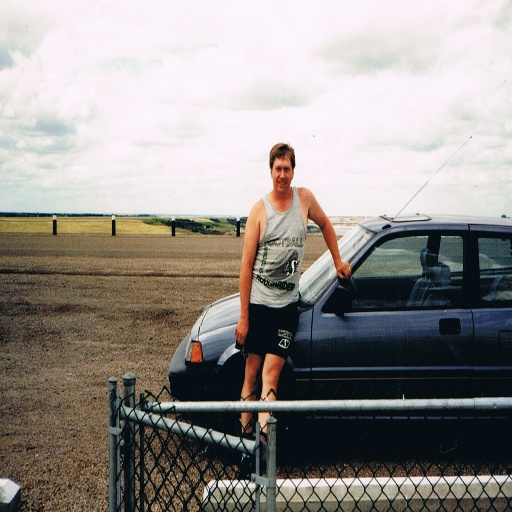hand: (234, 315, 249, 344), (335, 260, 351, 276)
